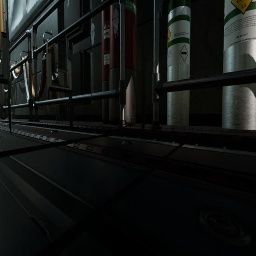0: (222, 0, 256, 133), (167, 0, 191, 128)
NitrogenTank ,: (109, 0, 137, 126), (101, 0, 110, 124)
